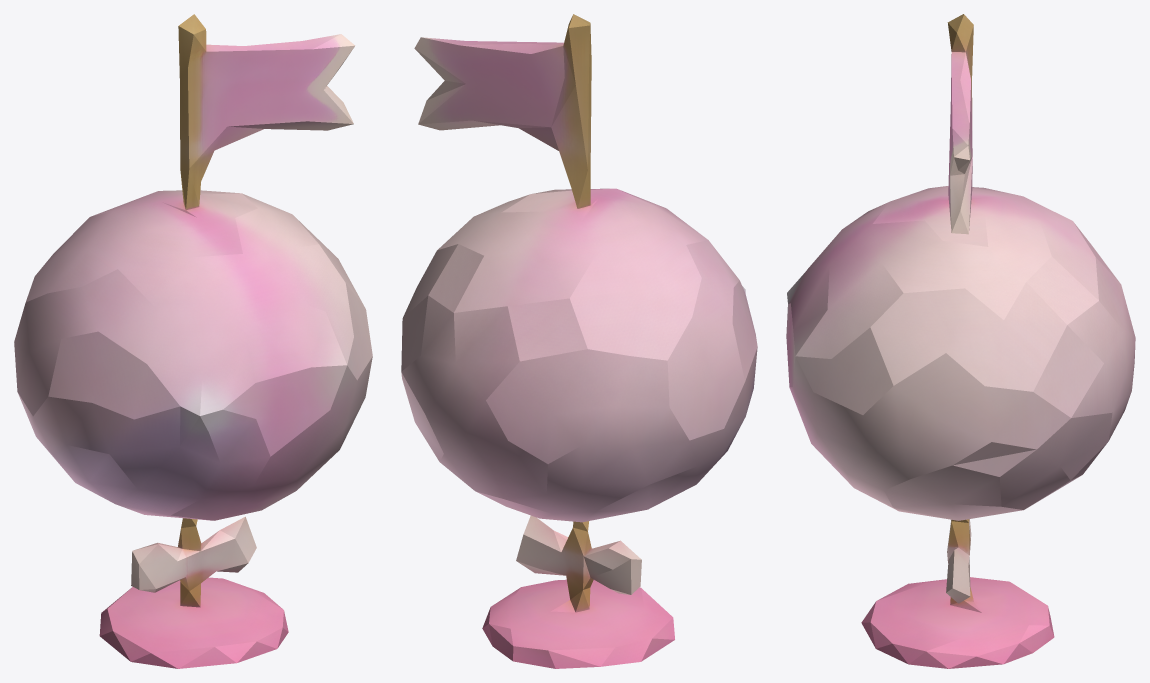
The picture shows the model from 3 angles, left to right: view 1: azimuth 30°, elevation 25°; view 2: azimuth 150°, elevation 25°; view 3: azimuth 270°, elevation 25°; orthographic projection.
Visible parts, largest first — view 1: model; view 2: model; view 3: model.
Boxes of the visible parts, box(x1,y1,x2,y2) form: model: box(14, 14, 372, 668); model: box(401, 14, 757, 668); model: box(786, 14, 1135, 668).
Size of the model in its own units: 101 by 189 by 96.42.
Materials: 1 (1 with a texture image).
